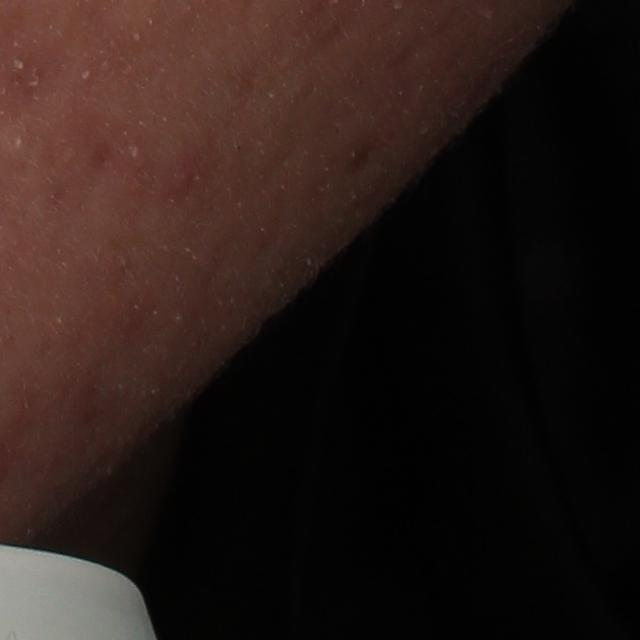papule: (164, 156, 201, 200)
